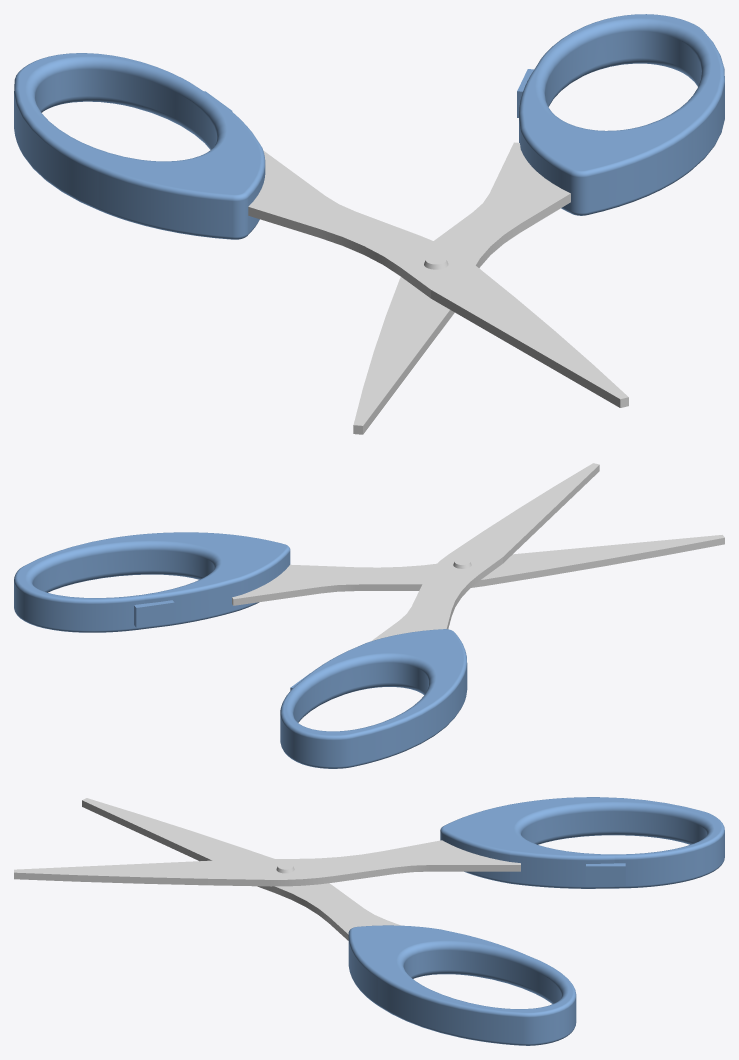
File: 024_ハサミ開.glb
3 views of the same model, one above another, from view 1: azimuth 30°, elevation 25°; view 2: azimuth 150°, elevation 25°; view 3: azimuth 270°, elevation 25° (orthographic). The views are drawn at different scales.
Visible parts, largest first — view 1: 左, 右; view 2: 右, 左; view 3: 左, 右.
Boxes of the visible parts, x1,y1,x2,y2 form: 左: [14, 53, 628, 407]; 右: [353, 14, 724, 434]; 右: [14, 532, 724, 632]; 左: [280, 463, 599, 768]; 左: [14, 797, 724, 888]; 右: [82, 798, 576, 1045].
Bounding box in the file's own units: 0.1521 × 0.01 × 0.1964.
